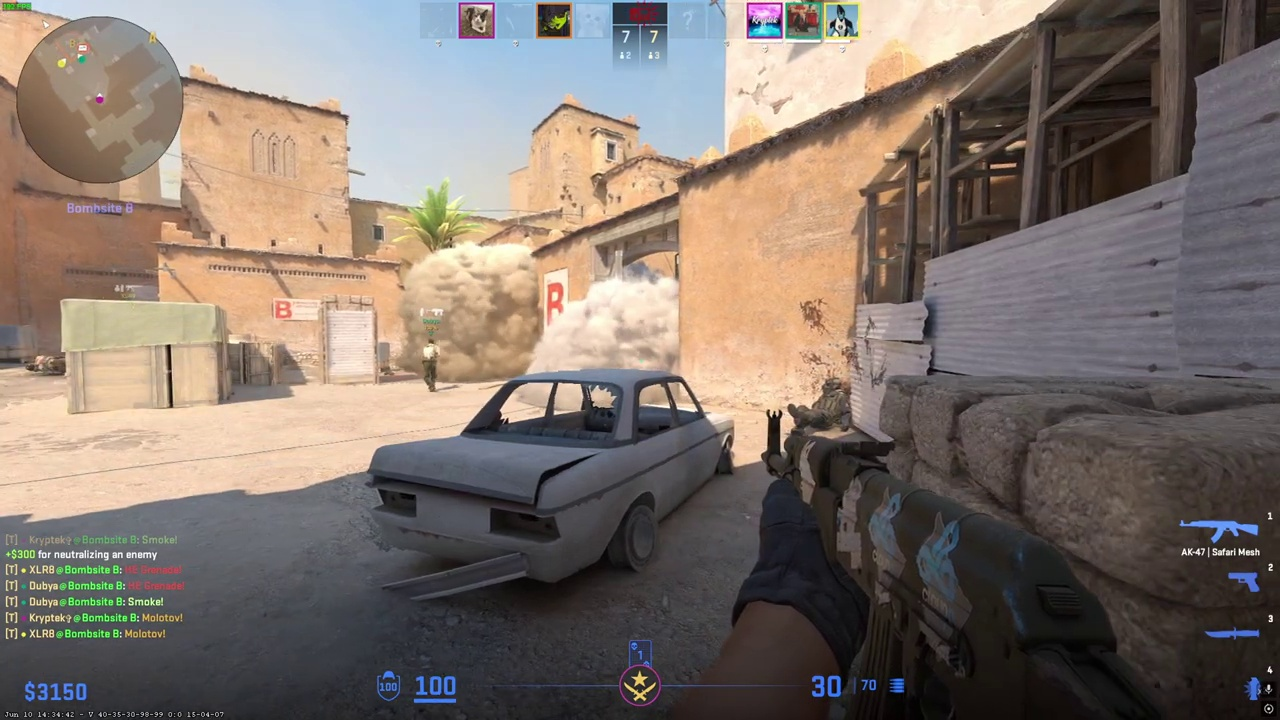Terrorist: (421, 338, 440, 392)
